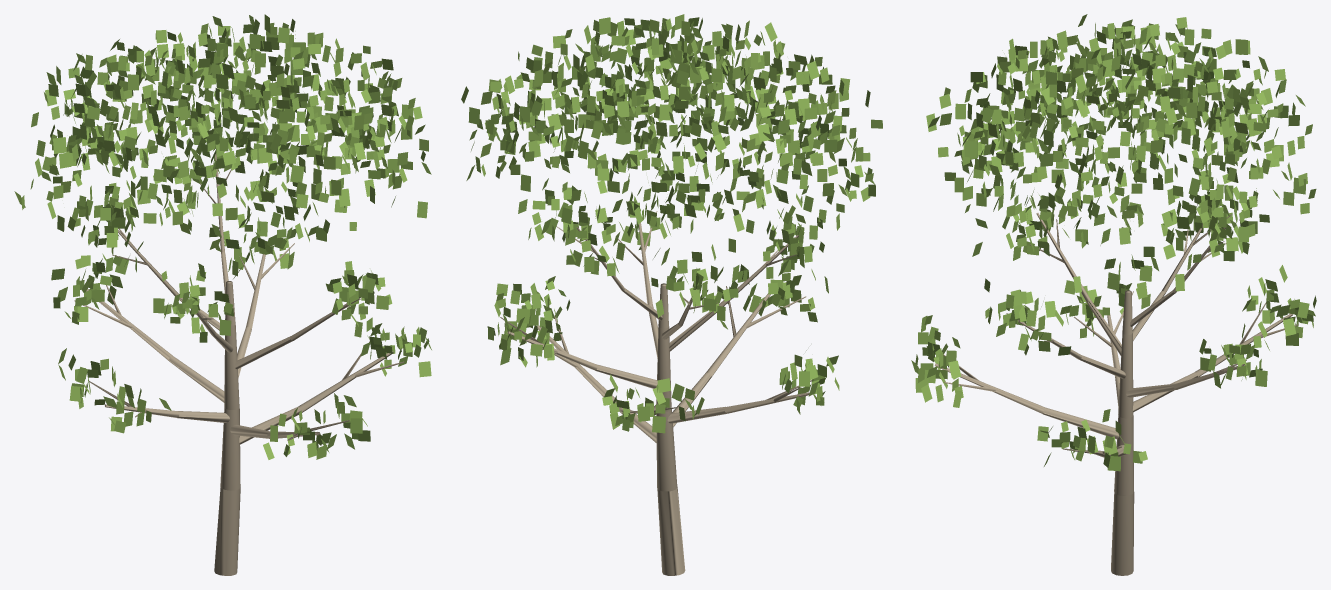
File: cottonwood_candidate.glb
3 renders of one model, left to right at view 1: azimuth 30°, elevation 25°; view 2: azimuth 150°, elevation 25°; view 3: azimuth 270°, elevation 25°, orthographic.
Parts seen in each view (by area): view 1: cottonwood_candidate_lod0; view 2: cottonwood_candidate_lod0; view 3: cottonwood_candidate_lod0.
Boxes of the visible parts, bbox=[...] form: cottonwood_candidate_lod0: bbox=[14, 14, 431, 575]; cottonwood_candidate_lod0: bbox=[461, 14, 882, 575]; cottonwood_candidate_lod0: bbox=[911, 14, 1316, 575].
Size of what is drawn, in the model's own units: 18.21 by 24.49 by 17.06.
